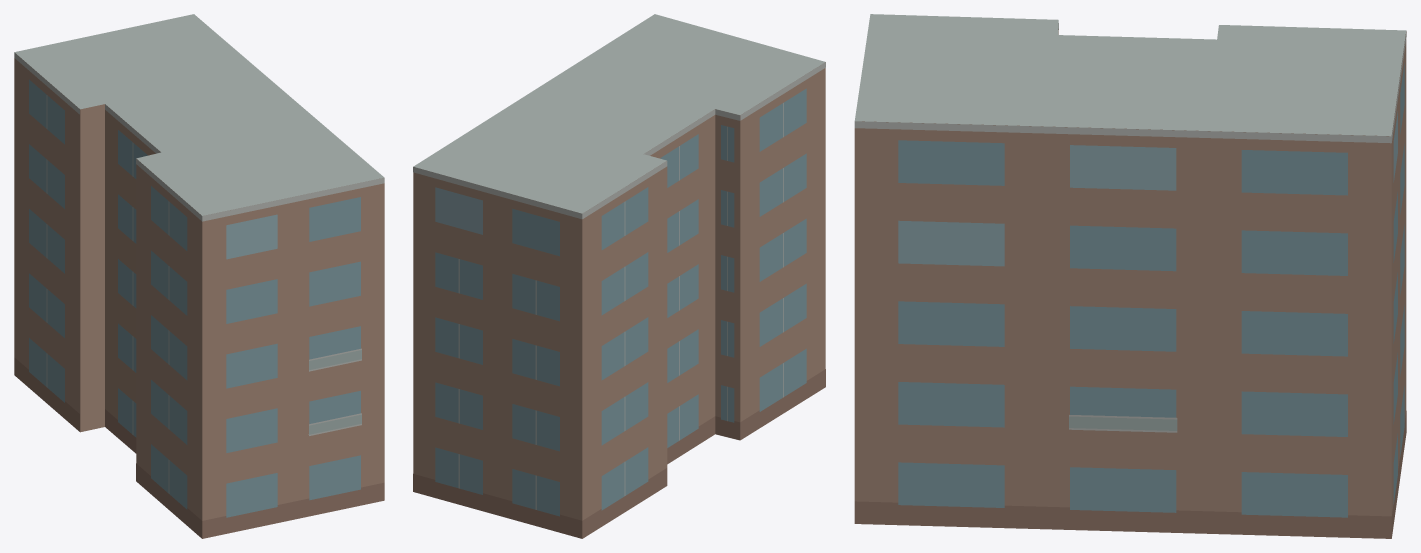
File: survey-upis-32755090.glb
The picture shows the model from 3 angles, left to right: view 1: azimuth 30°, elevation 25°; view 2: azimuth 150°, elevation 25°; view 3: azimuth 270°, elevation 25°; orthographic projection. The views are drawn at different scales.
Parts seen in each view (by area): view 1: survey-upis-32755090.tmp; view 2: survey-upis-32755090.tmp; view 3: survey-upis-32755090.tmp.
Boxes of the visible parts, x1,y1,x2,y2 form: survey-upis-32755090.tmp: (14, 14, 384, 538); survey-upis-32755090.tmp: (413, 14, 825, 538); survey-upis-32755090.tmp: (854, 14, 1406, 538).
Bounding box in the file's own units: 9.12 × 14 × 17.39.
